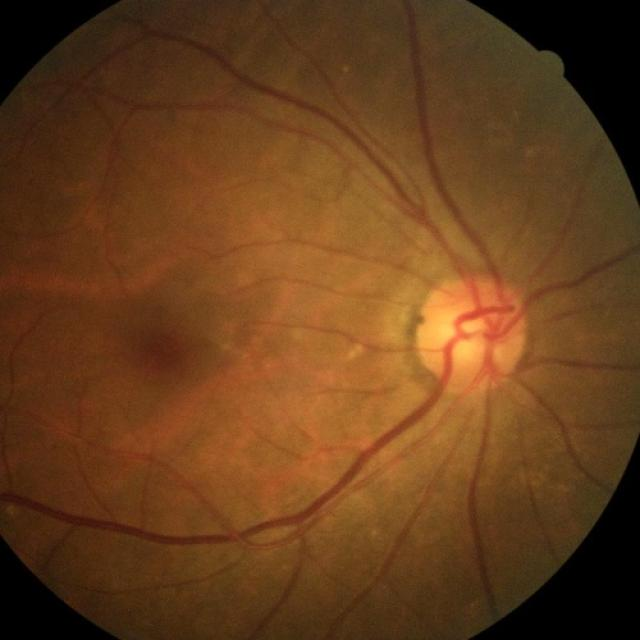OC: (439, 312, 484, 363)
OD: (418, 277, 532, 392)
